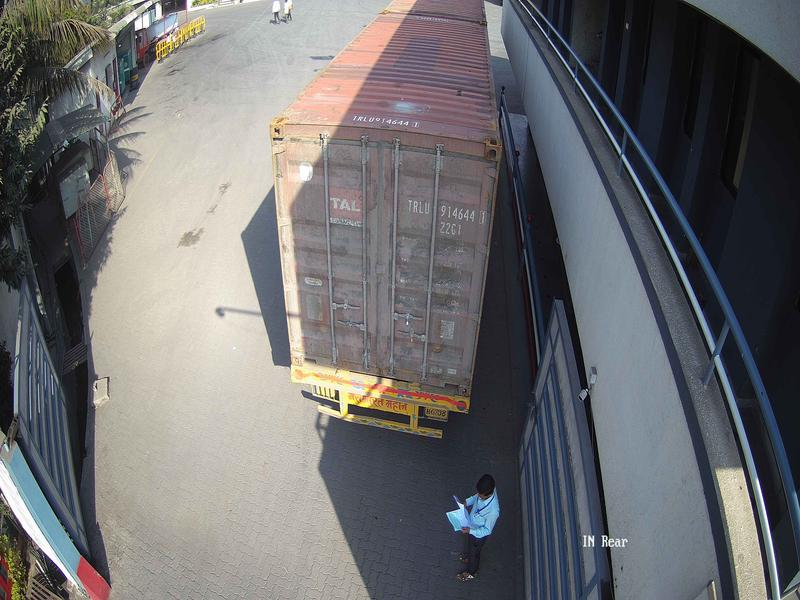container: (253, 94, 503, 411)
